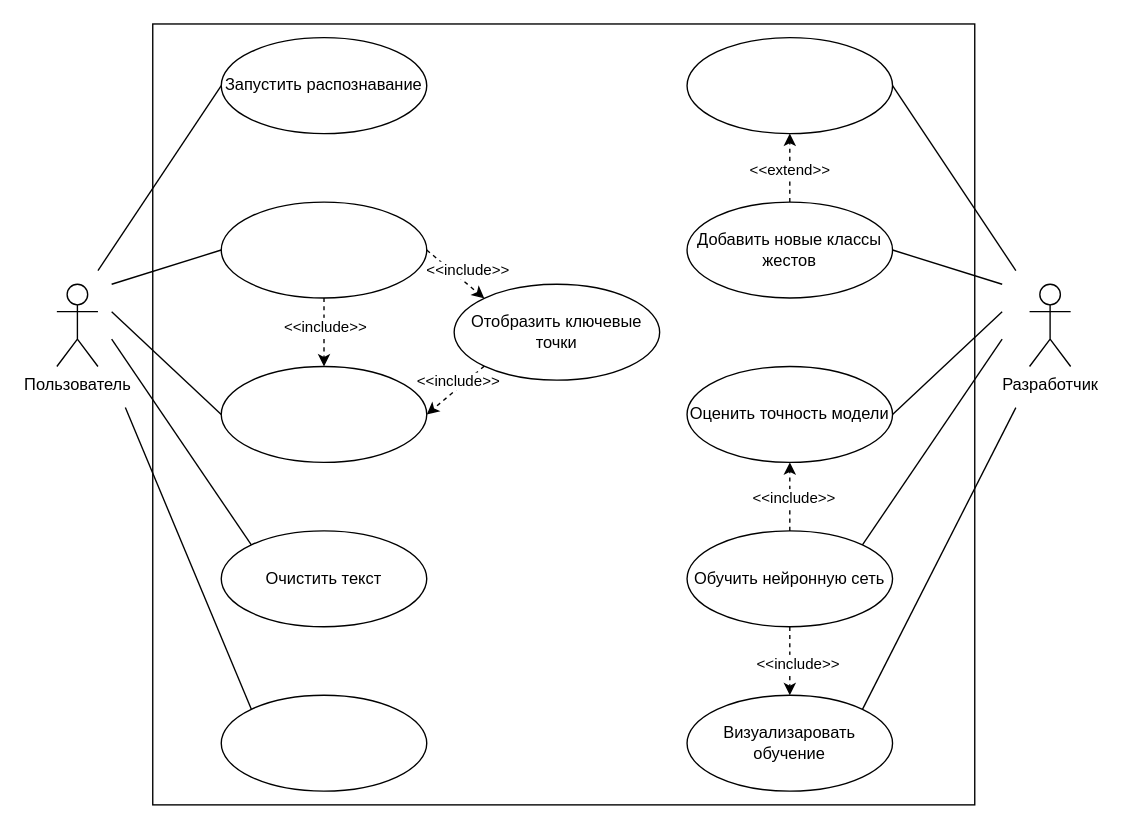
Image size: 1121x829. Some labels were removed from this diagram. Here are the shapes that lost their labels. From the top down, the centre of each, then its label:
At (x=789, y=85): "Собрать датасет жестов".
At (x=323, y=249): "Показать жест камере".
At (x=323, y=413): "Просмотреть распознанный текст".
At (x=323, y=742): "Остановить систему".
